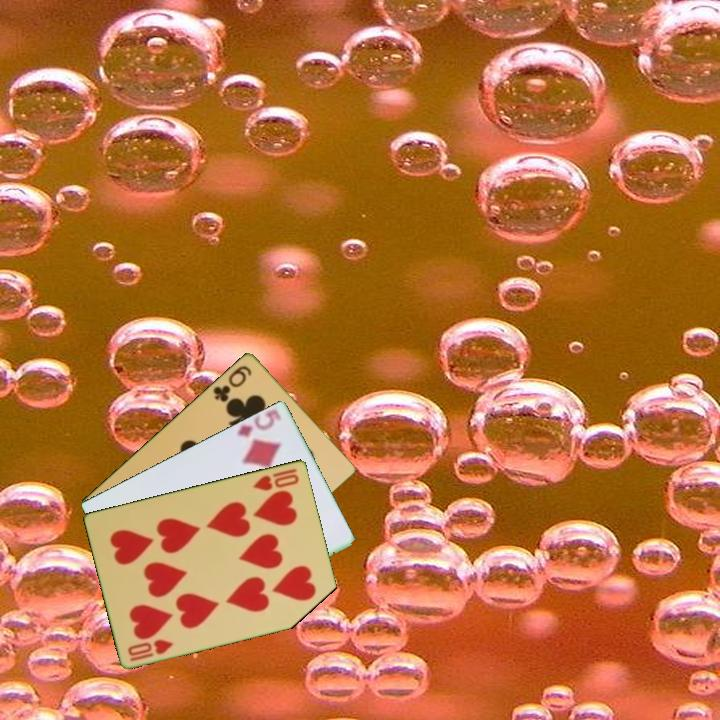10h: (124, 635, 176, 664), (249, 465, 302, 493)
5d: (233, 409, 282, 440)
6c: (209, 362, 255, 405)
